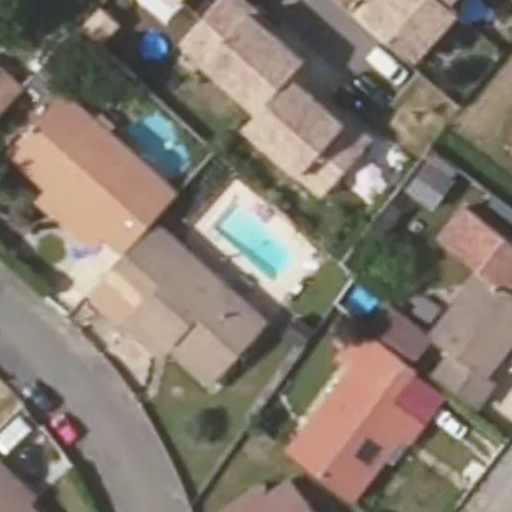pool: (213, 228, 296, 256)
